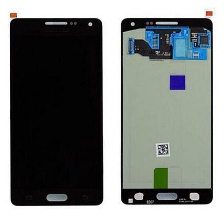phone: (118, 15, 215, 208), (8, 16, 104, 209)
